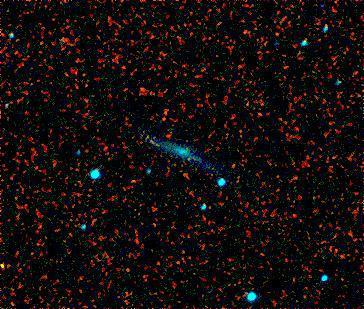star: (0, 249, 18, 279)
